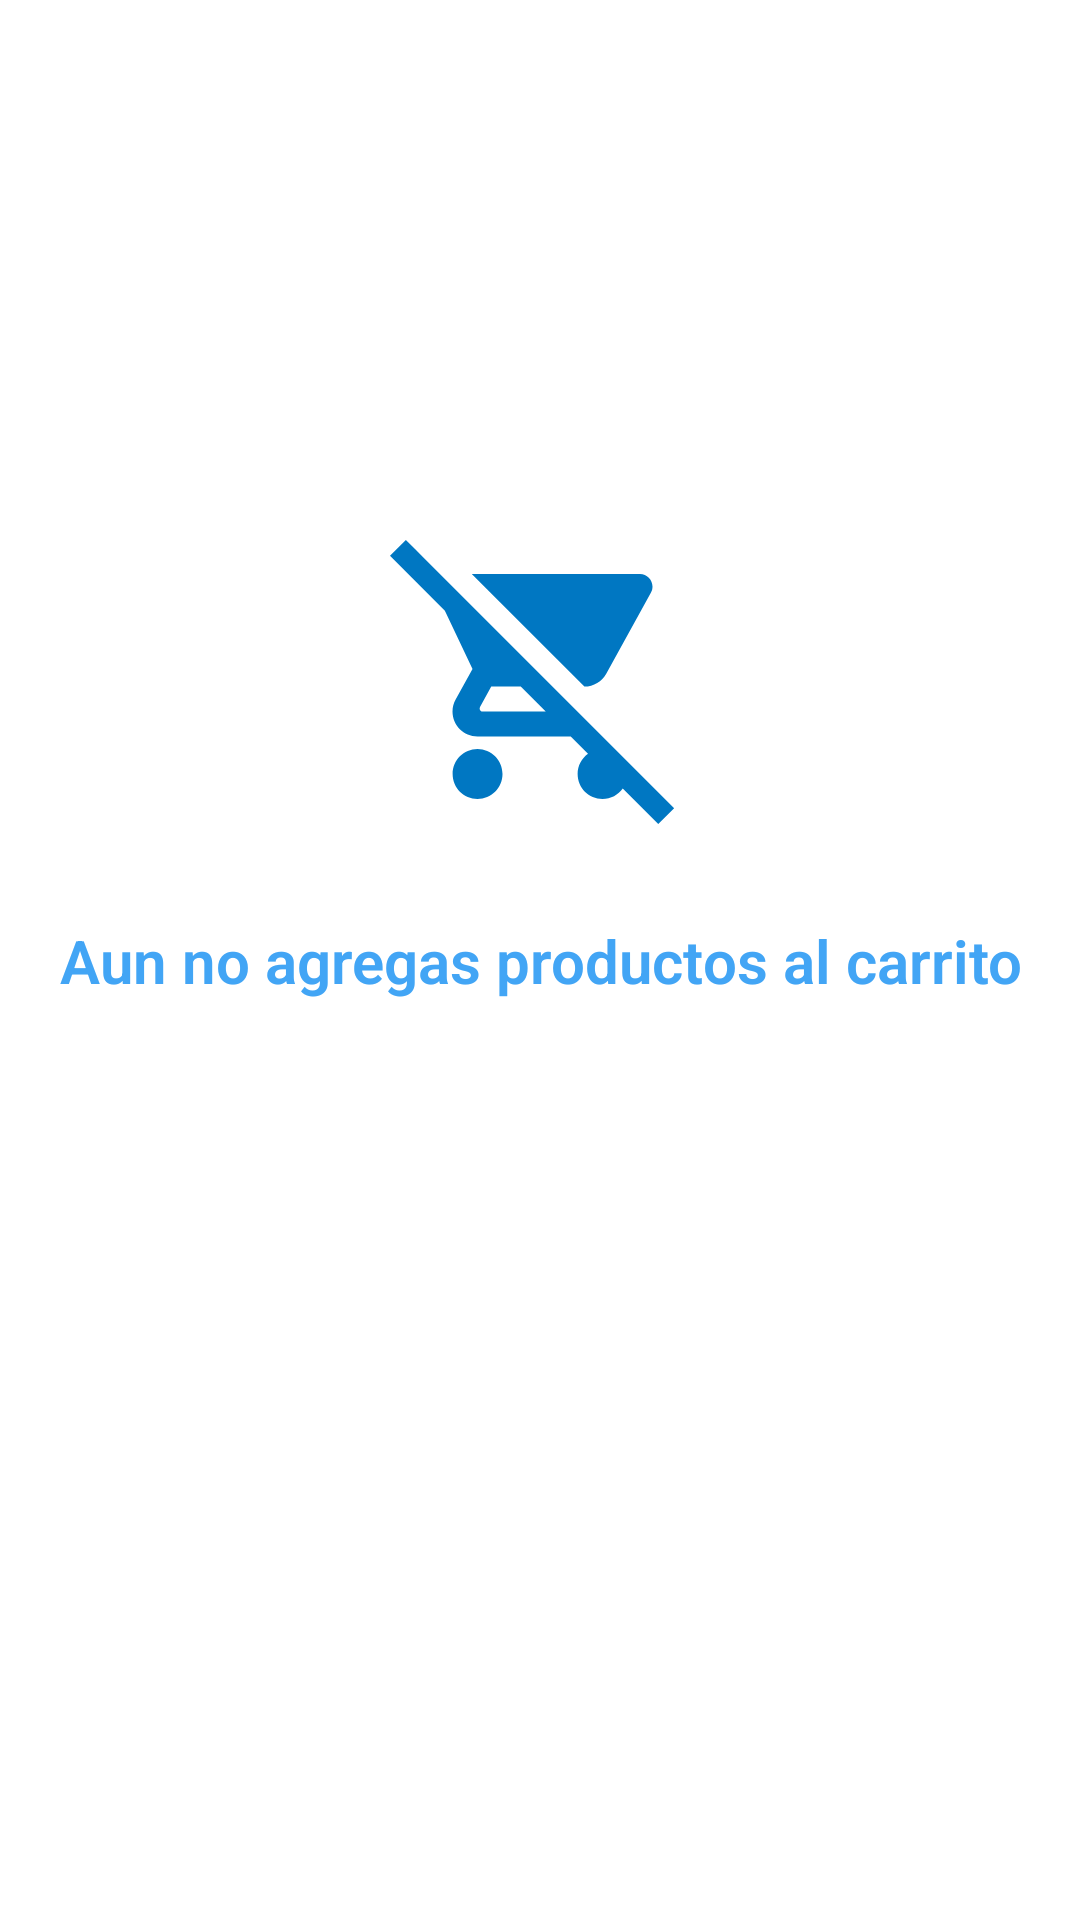

Named icons in this screenshot (1080px x 1920px) and their bounding boxes, {"left": x1, "top": y1, "right": x2, "bottom": y2}:
remove shopping cart: {"left": 390, "top": 540, "right": 674, "bottom": 824}
